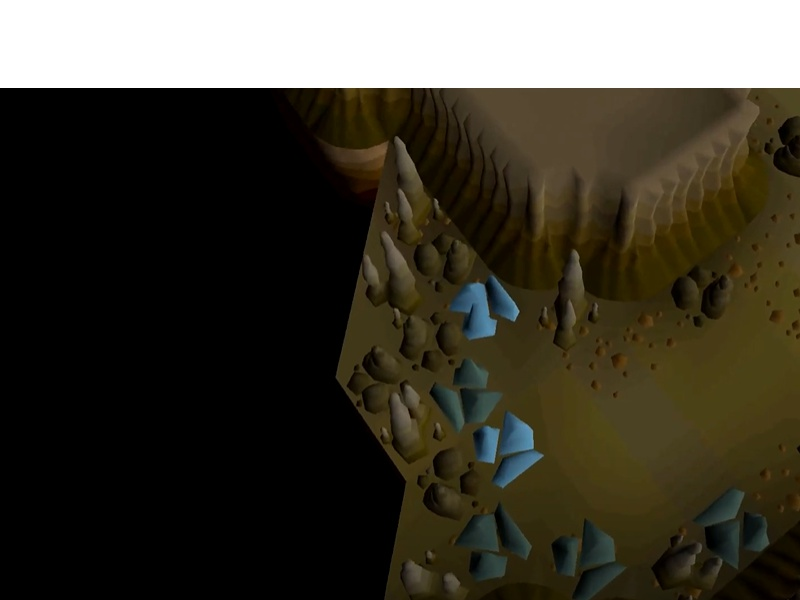adamant: (449, 497, 534, 584), (547, 513, 632, 600), (690, 484, 773, 572), (427, 355, 507, 435)
rune: (468, 407, 548, 492), (446, 270, 524, 344)
